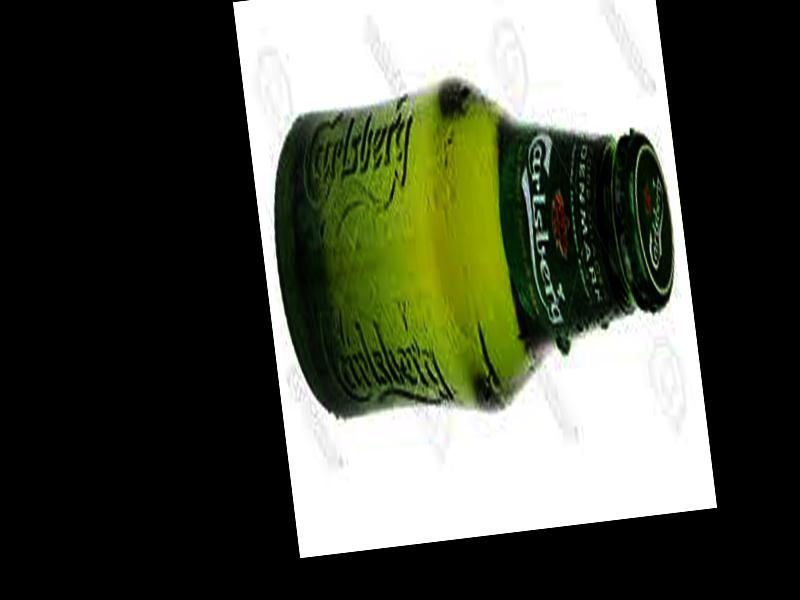Beer: (256, 53, 691, 431)
